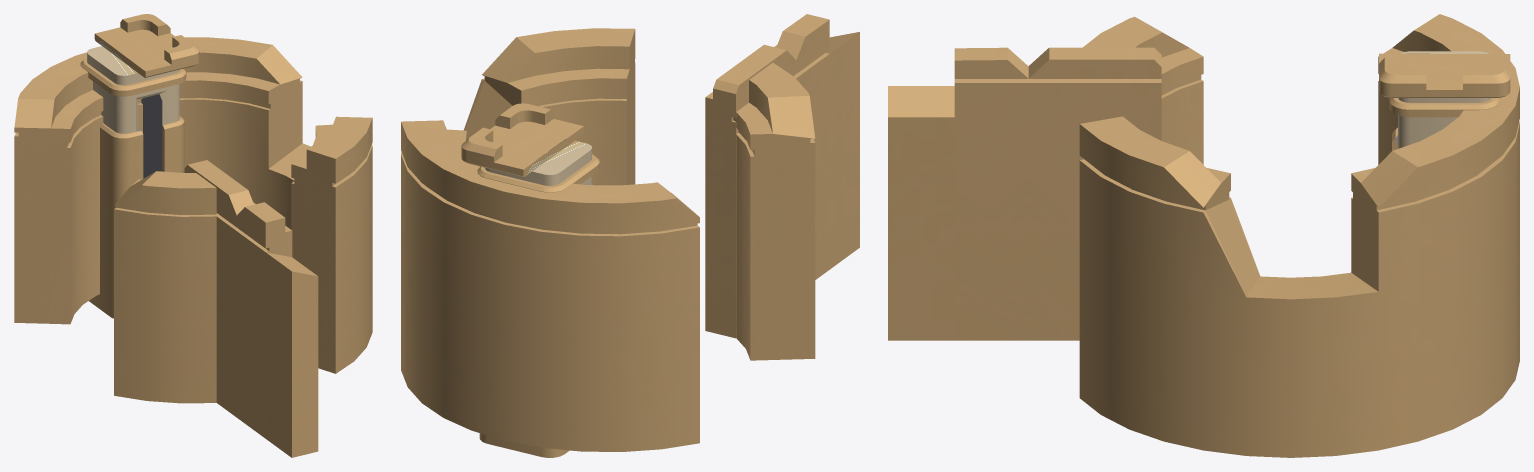
The model's file is Fort-Old.fbx.
The picture shows the model from 3 angles, left to right: view 1: azimuth 30°, elevation 25°; view 2: azimuth 150°, elevation 25°; view 3: azimuth 270°, elevation 25°; orthographic projection. The views are drawn at different scales.
Visible parts, largest first — view 1: Fort-Old; view 2: Fort-Old; view 3: Fort-Old.
Boxes of the visible parts, box(x1,y1,x2,y2) form: Fort-Old: box(14, 14, 372, 457); Fort-Old: box(401, 14, 859, 457); Fort-Old: box(888, 14, 1519, 457).
Bounding box in the file's own units: 7756 × 6750 × 11688.
